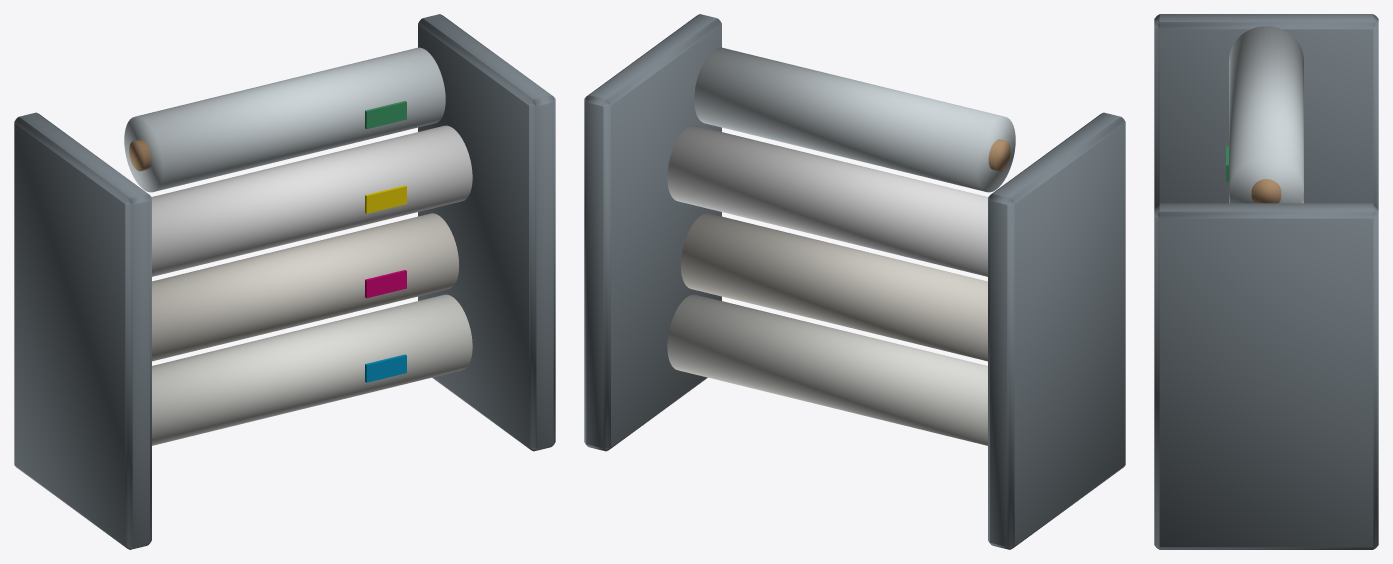
Rendered from m_inkjetrolls.glb.
The picture shows the model from 3 angles, left to right: view 1: azimuth 30°, elevation 25°; view 2: azimuth 150°, elevation 25°; view 3: azimuth 270°, elevation 25°; orthographic projection. The views are drawn at different scales.
Visible parts, largest first — view 1: m_inkjetrolls; view 2: m_inkjetrolls; view 3: m_inkjetrolls.
Boxes of the visible parts, x1,y1,x2,y2 form: m_inkjetrolls: (14, 14, 555, 549); m_inkjetrolls: (584, 14, 1125, 549); m_inkjetrolls: (1154, 14, 1378, 549).
Size of the model in its own units: 0.64 by 0.53 by 0.3.
